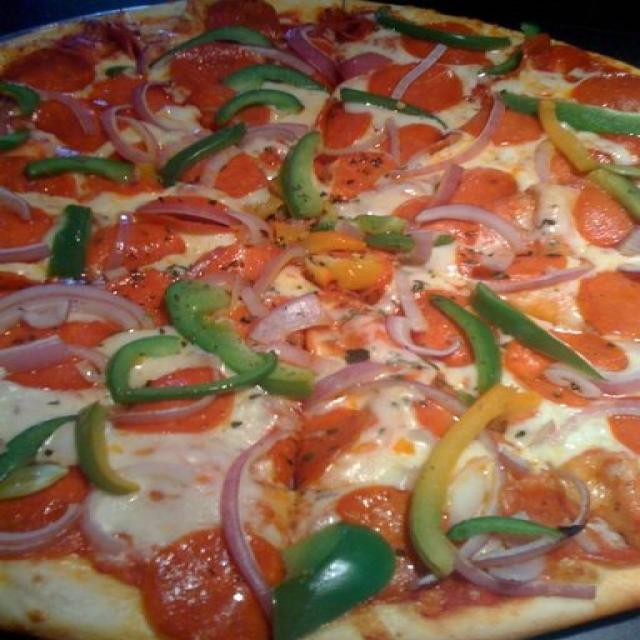Green Pepper: (417, 380, 560, 574), (166, 274, 316, 399), (465, 270, 601, 375), (258, 524, 389, 630), (87, 342, 274, 409), (530, 92, 640, 200), (12, 404, 132, 498), (376, 0, 522, 53), (428, 293, 508, 389), (500, 84, 640, 136), (208, 57, 315, 122), (312, 215, 452, 261), (154, 125, 246, 191), (332, 84, 452, 126), (278, 118, 326, 221), (148, 18, 268, 56), (21, 150, 139, 184), (47, 196, 87, 281), (0, 72, 30, 148)
Onions: (430, 523, 601, 601), (390, 90, 516, 176), (216, 435, 276, 594), (8, 270, 145, 328), (400, 192, 536, 249), (241, 271, 336, 349), (294, 345, 414, 401), (412, 103, 504, 174), (0, 511, 130, 561), (412, 261, 606, 292), (543, 350, 640, 399), (287, 11, 342, 81), (43, 86, 102, 140), (104, 108, 154, 166), (0, 329, 62, 369)
Pepperoni: (132, 525, 287, 640), (460, 164, 548, 228), (0, 32, 98, 87), (572, 268, 640, 339), (574, 172, 630, 255), (376, 49, 456, 104), (76, 226, 185, 266), (561, 64, 640, 117), (106, 70, 169, 120), (0, 202, 59, 251), (389, 118, 447, 160)
Pizza: (0, 0, 640, 640)
